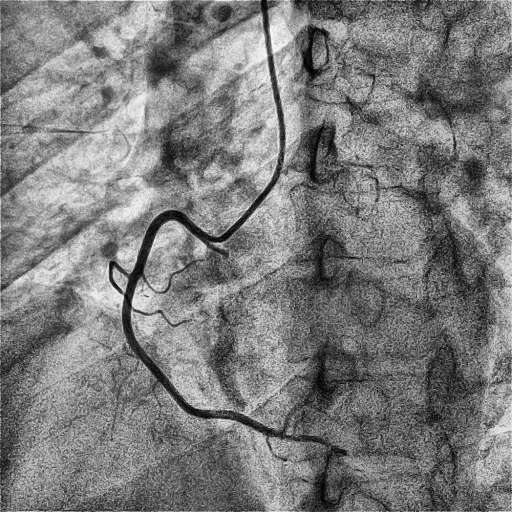pborca: (281, 379, 318, 433)
pda: (281, 433, 345, 453)
rca: (122, 209, 281, 438)
